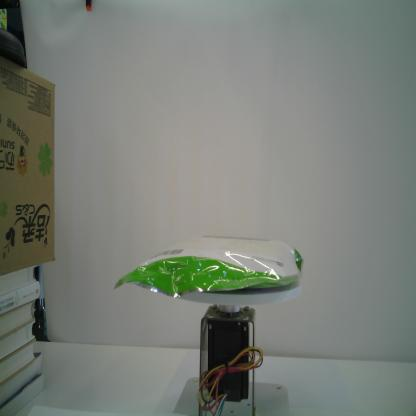Dried Food: (112, 233, 305, 300)
